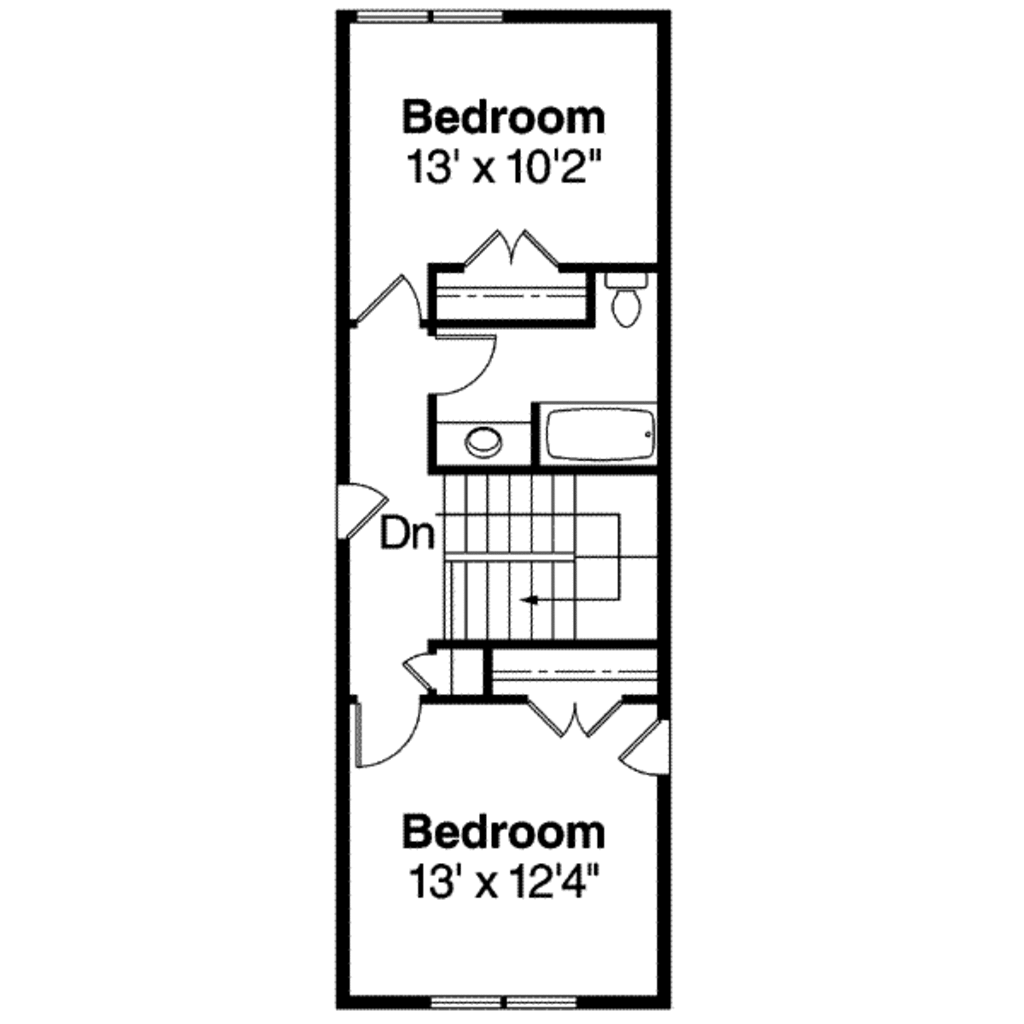door: (355, 699, 433, 777), (467, 219, 566, 275), (522, 686, 620, 741), (355, 263, 431, 327), (436, 330, 505, 399), (336, 478, 391, 547), (622, 717, 673, 782), (406, 644, 448, 694)
large_sink: (600, 267, 656, 332)
small_sink: (439, 419, 536, 463)
stairs: (438, 472, 661, 646)
tub: (536, 392, 656, 466)
window: (356, 2, 433, 27), (431, 988, 506, 1011), (508, 988, 577, 1013), (434, 3, 502, 25)
